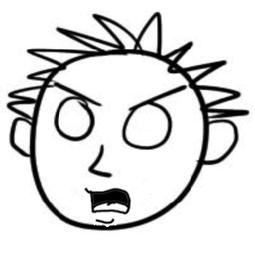ear: (199, 118, 244, 167), (5, 117, 41, 161)
empty_eye: (121, 102, 173, 153), (53, 96, 94, 142)
frowning_eyebrow: (129, 84, 186, 113), (55, 83, 103, 107)
open_mouth: (84, 184, 131, 215)
pointy_nose: (86, 142, 113, 180)
